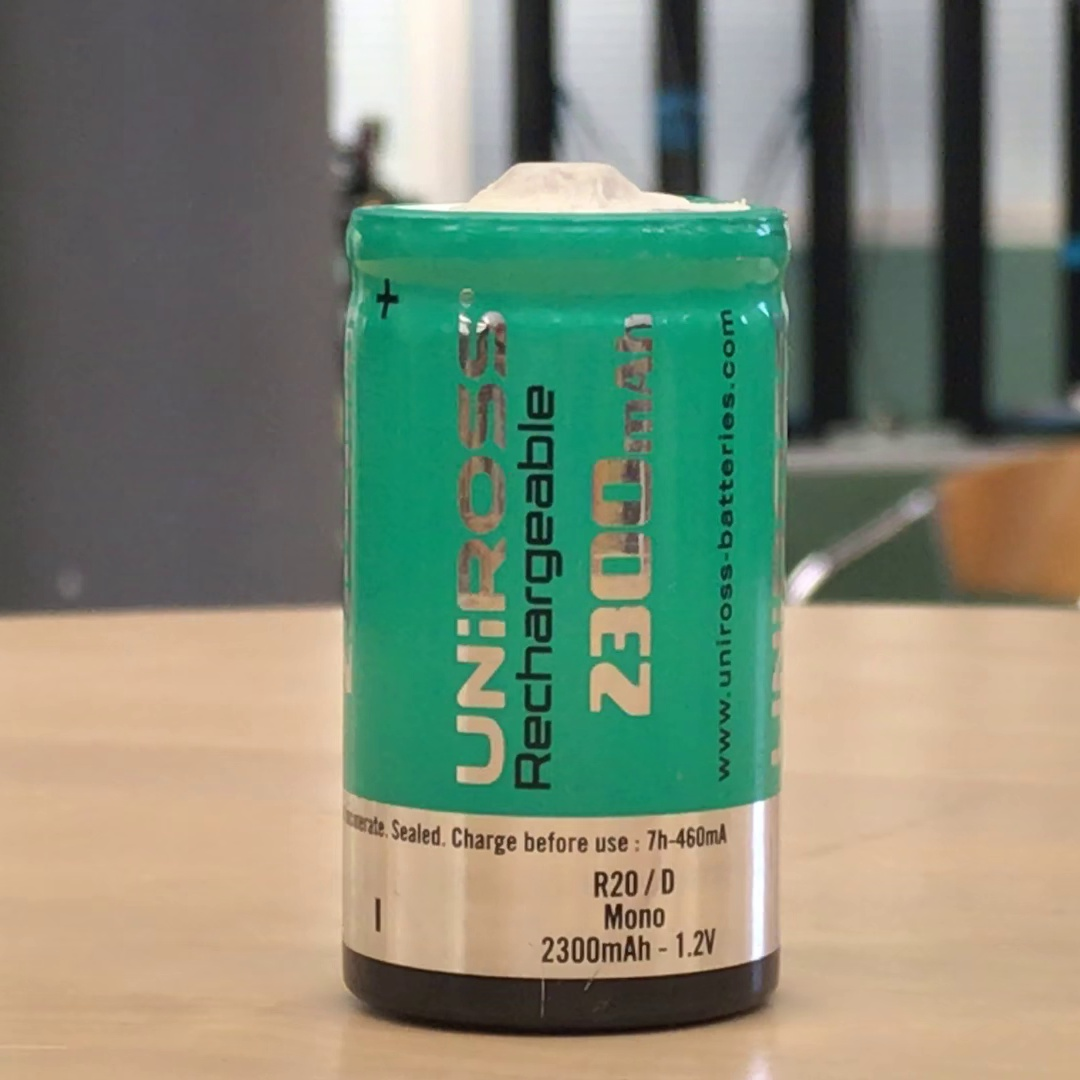keyword: (666, 918, 726, 968)
